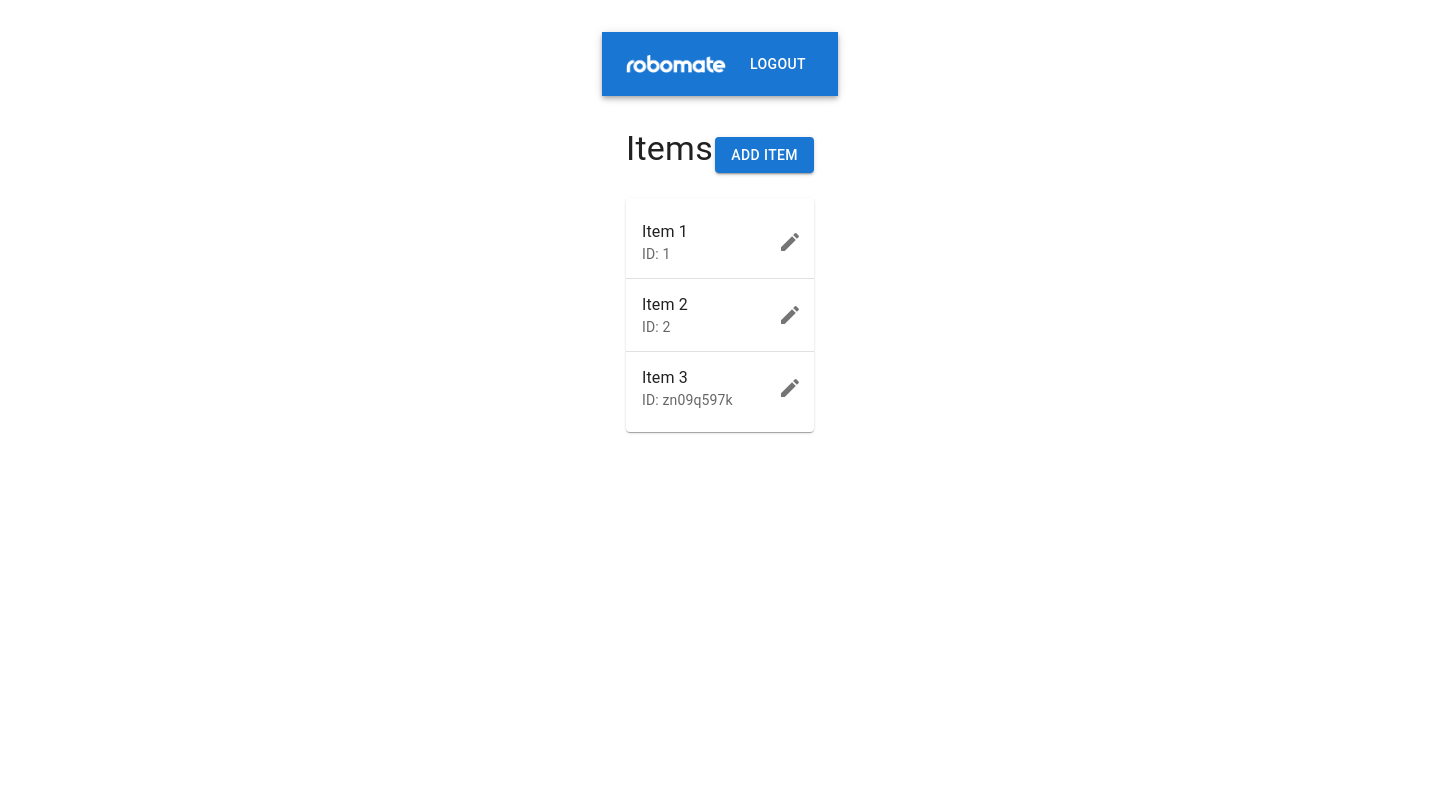
Test: ItemsPage › opens dialog on "Edit" button click and updates an existing item
This screenshot has width=1440, height=810.
Click the button named "edit" next to "Item 1".
click(790, 242)  # box top-left (770, 222), bottom-right (810, 262)
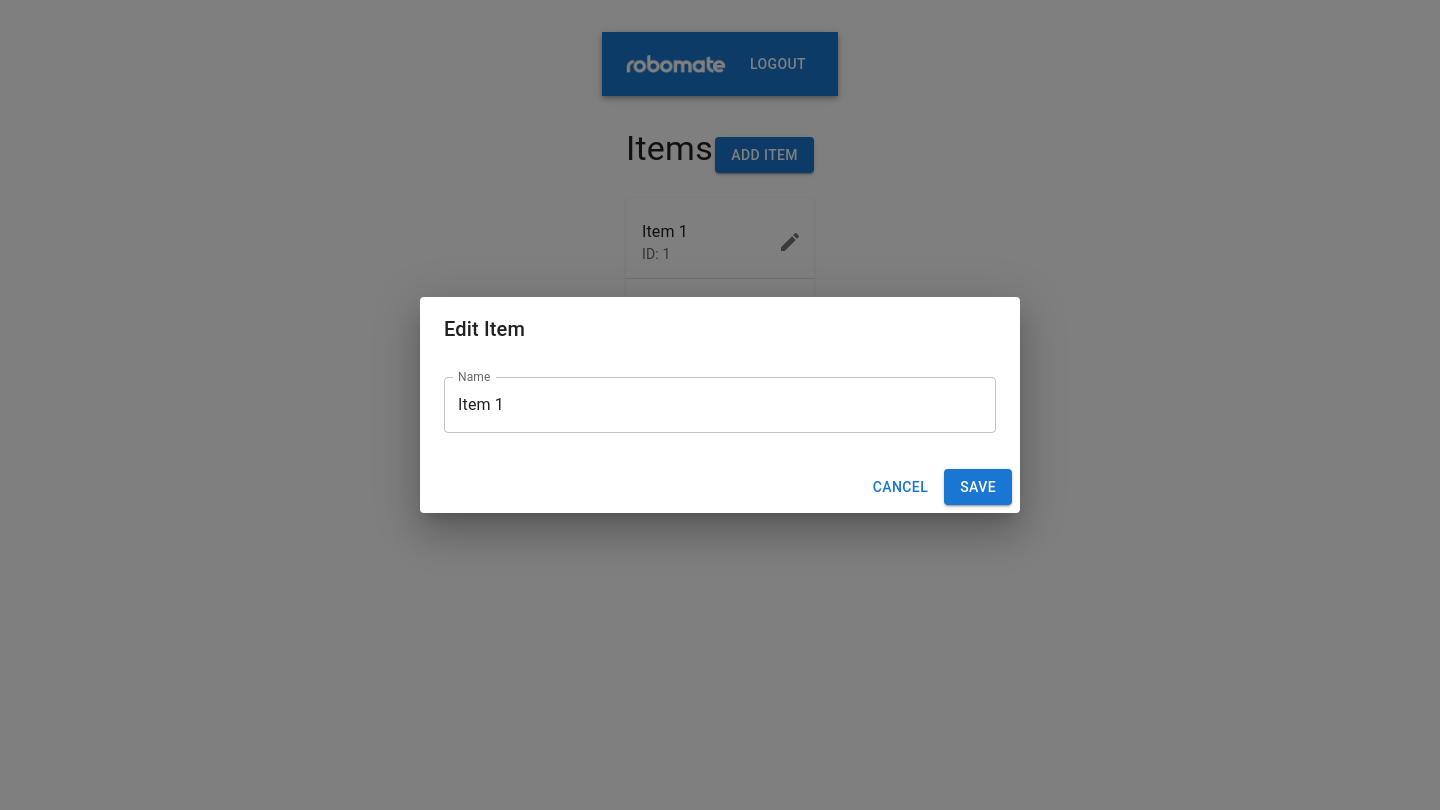
Check: the dialog is shown, box top-left (420, 297), bottom-right (1020, 513)
Replace the text in the field labelled "Name" with "Item 1 Updated" at (720,405), box top-left (444, 377), bottom-right (996, 433)
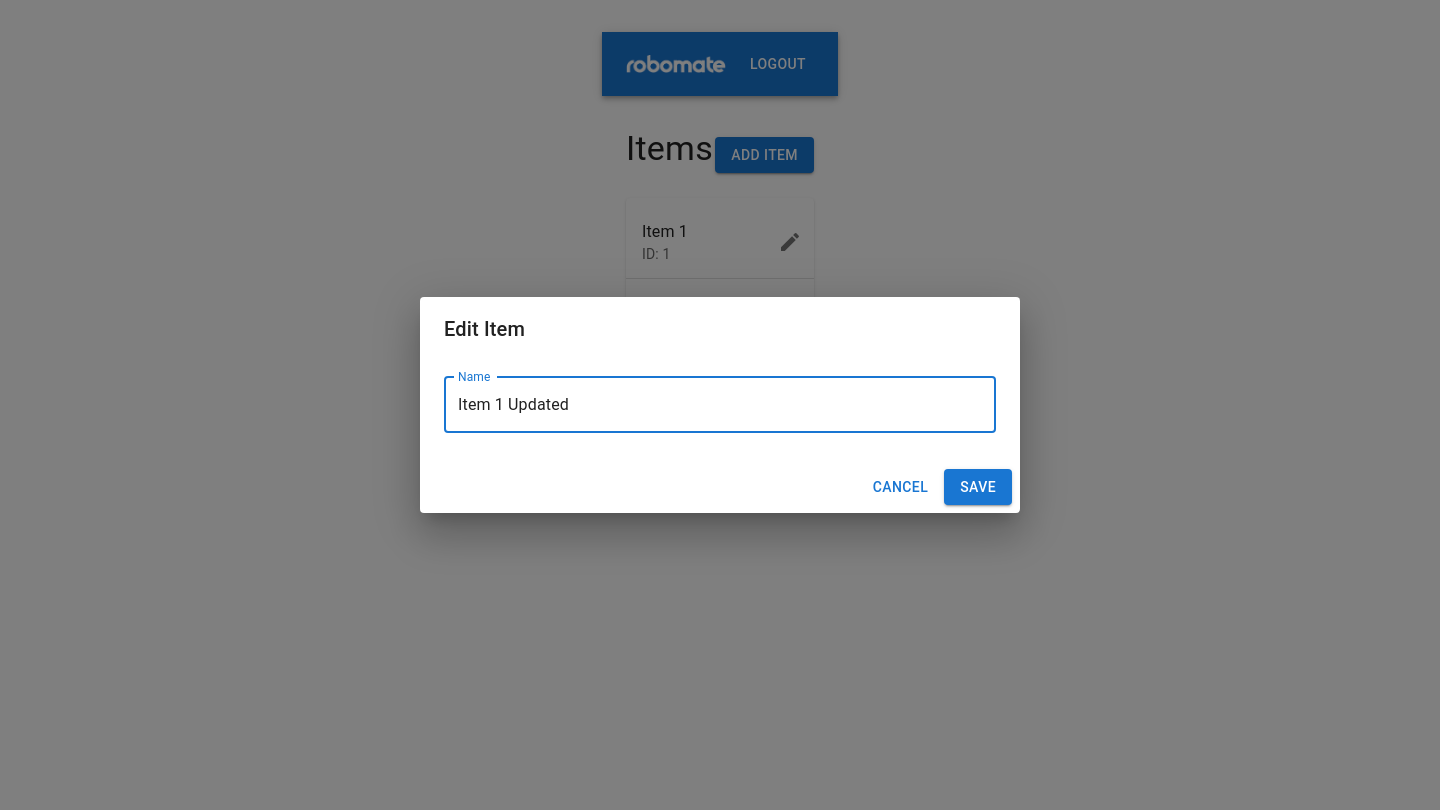
Click the button "Save".
click(978, 487)  # box top-left (944, 469), bottom-right (1012, 505)
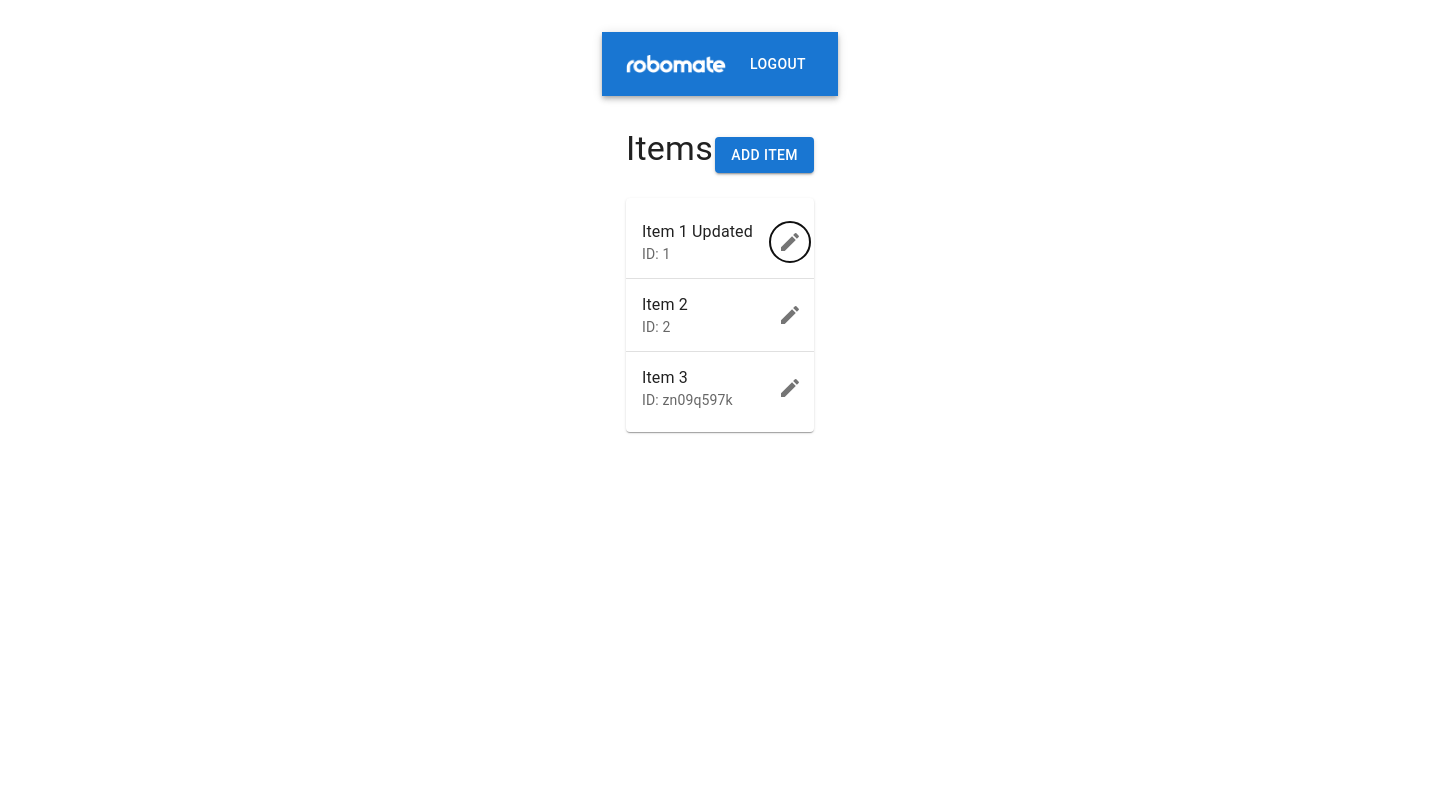
Check: the text "Item 1 Updated" is shown, box top-left (642, 220), bottom-right (766, 244)
